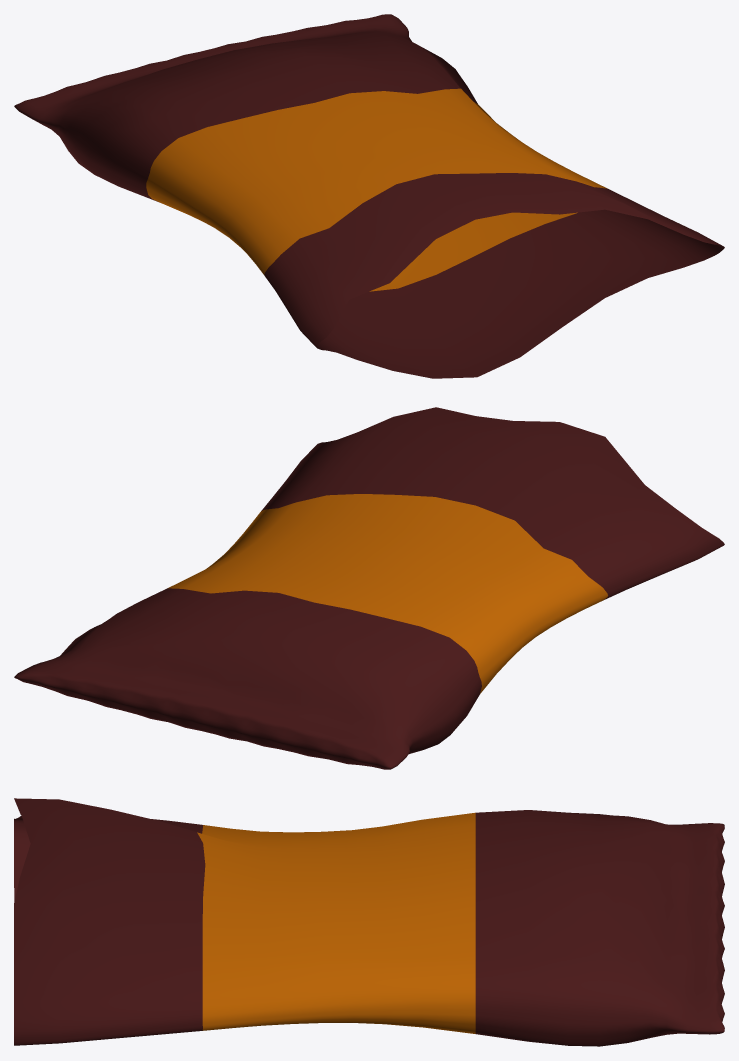
File: Empty crisp packet.fbx
3 renders of one model, top to bottom at view 1: azimuth 30°, elevation 25°; view 2: azimuth 150°, elevation 25°; view 3: azimuth 270°, elevation 25°, orthographic. The views are drawn at different scales.
Visible parts, largest first — view 1: crisp_packet:polySurface3; view 2: crisp_packet:polySurface3; view 3: crisp_packet:polySurface3.
Part boxes in pixels (x1,y1,x2,y2): crisp_packet:polySurface3: [14, 14, 724, 378]; crisp_packet:polySurface3: [14, 407, 724, 769]; crisp_packet:polySurface3: [14, 798, 724, 1046].
Bounding box in the file's own units: 66.61 × 24.27 × 89.69.
